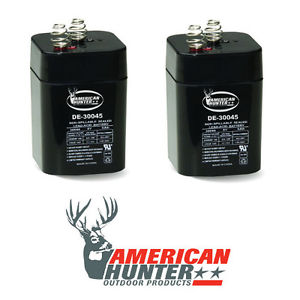6V: (24, 15, 134, 179), (160, 17, 267, 181)
